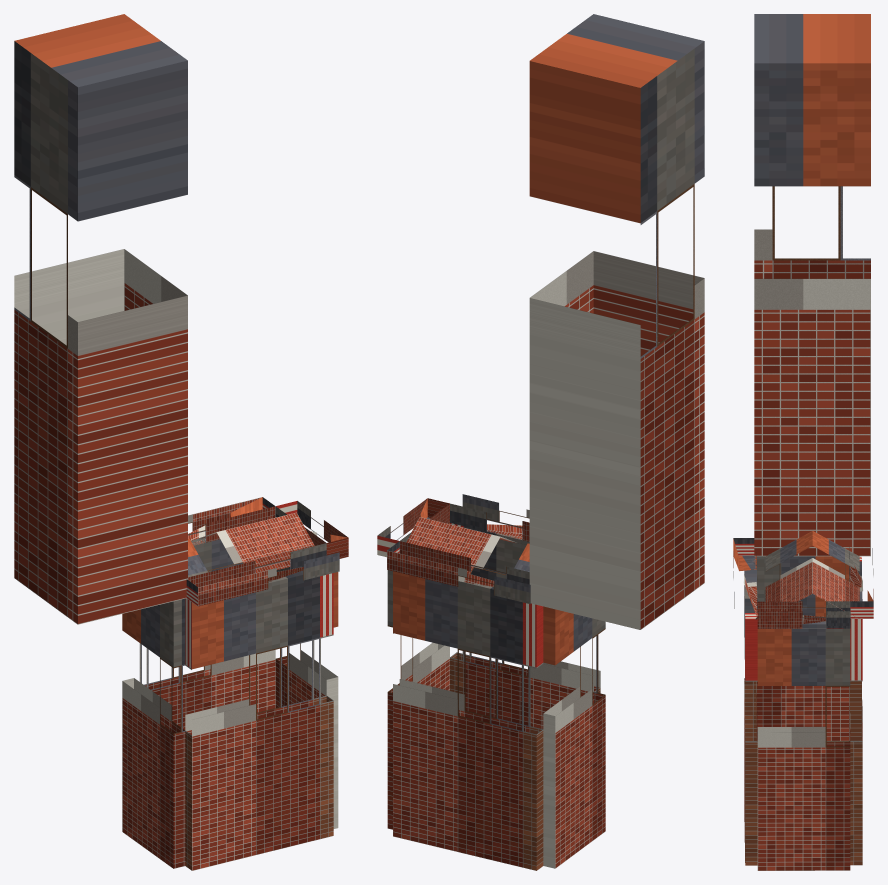
3 renders of one model, left to right at view 1: azimuth 30°, elevation 25°; view 2: azimuth 150°, elevation 25°; view 3: azimuth 270°, elevation 25°, orthographic. The views are drawn at different scales.
Parts seen in each view (by area): view 1: 1107169985__chimney_0_xb, 1107169985__wall_2_xb, 1107169985__wall_3_xb, 1107169985__wall_0_xb, 1107169985_roof_-1_xb, 1107169985__cornice_2, 1107169985__wall_1_xb, 1107169985__cornice_0, 1107169985__cornice_1; view 2: 1107169985__chimney_0_xb, 1107169985__wall_0_xb, 1107169985__wall_3_xb, 1107169985__wall_2_xb, 1107169985__cornice_0, 1107169985__wall_1_xb, 1107169985_roof_1_xb, 1107169985__cornice_2, 1107169985__cornice_1; view 3: 1107169985__chimney_0_xb, 1107169985__wall_1_xb, 1107169985__wall_3_xb, 1107169985__wall_2_xb, 1107169985__wall_0_xb, 1107169985__cornice_1, 1107169985_roof_1_xb, 1107169985_roof_-1_xb, 1107169985__cornice_2, 1107169985__cornice_0.
Boxes of the visible parts, x1,y1,x2,y2 form: 1107169985__chimney_0_xb: (14,14,187,624); 1107169985__wall_2_xb: (185,570,333,870); 1107169985__wall_3_xb: (122,598,185,868); 1107169985__wall_0_xb: (140,537,275,730); 1107169985_roof_-1_xb: (188,512,314,577); 1107169985__cornice_2: (186,543,339,606); 1107169985__wall_1_xb: (275,567,338,828); 1107169985__cornice_0: (188,497,275,545); 1107169985__cornice_1: (275,501,348,558); 1107169985__chimney_0_xb: (529,14,704,629); 1107169985__wall_0_xb: (393,571,543,870); 1107169985__wall_3_xb: (543,606,605,868); 1107169985__wall_2_xb: (450,523,600,728); 1107169985__cornice_0: (387,541,530,603); 1107169985__wall_1_xb: (387,523,449,829); 1107169985_roof_1_xb: (406,517,529,575); 1107169985__cornice_2: (450,494,529,541); 1107169985__cornice_1: (377,498,449,557); 1107169985__chimney_0_xb: (754,14,870,556); 1107169985__wall_1_xb: (757,621,850,870); 1107169985__wall_3_xb: (757,556,849,741); 1107169985__wall_2_xb: (744,556,757,865); 1107169985__wall_0_xb: (849,556,862,865); 1107169985__cornice_1: (757,601,850,628); 1107169985_roof_1_xb: (812,531,859,618); 1107169985_roof_-1_xb: (765,531,812,610); 1107169985__cornice_2: (733,538,757,619); 1107169985__cornice_0: (849,547,873,618).
Size of the model in its own units: 0.3716 by 1.05 by 0.1807.
Materials: 1 (1 with a texture image).
